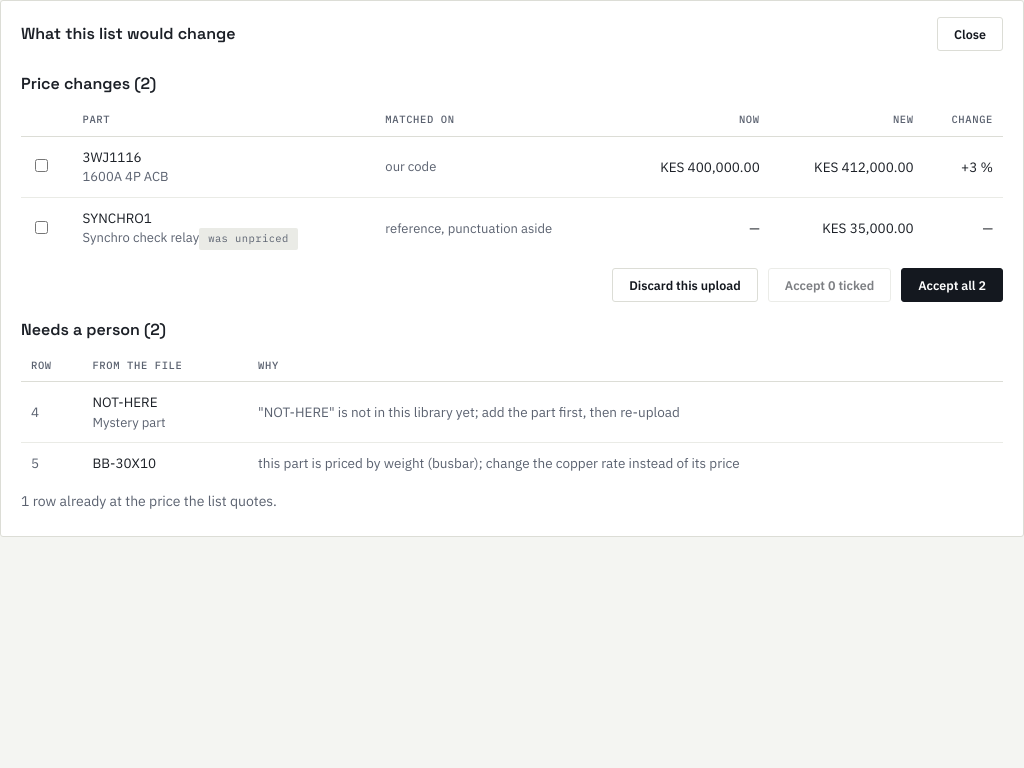
it: the price-list review › reports a refusal from the database rather than swallowing it
What coordinates should you click on to do the following:
click the button "Accept all 2"
I would click on:
 (952, 284)
Its box is [901,268,1003,302].
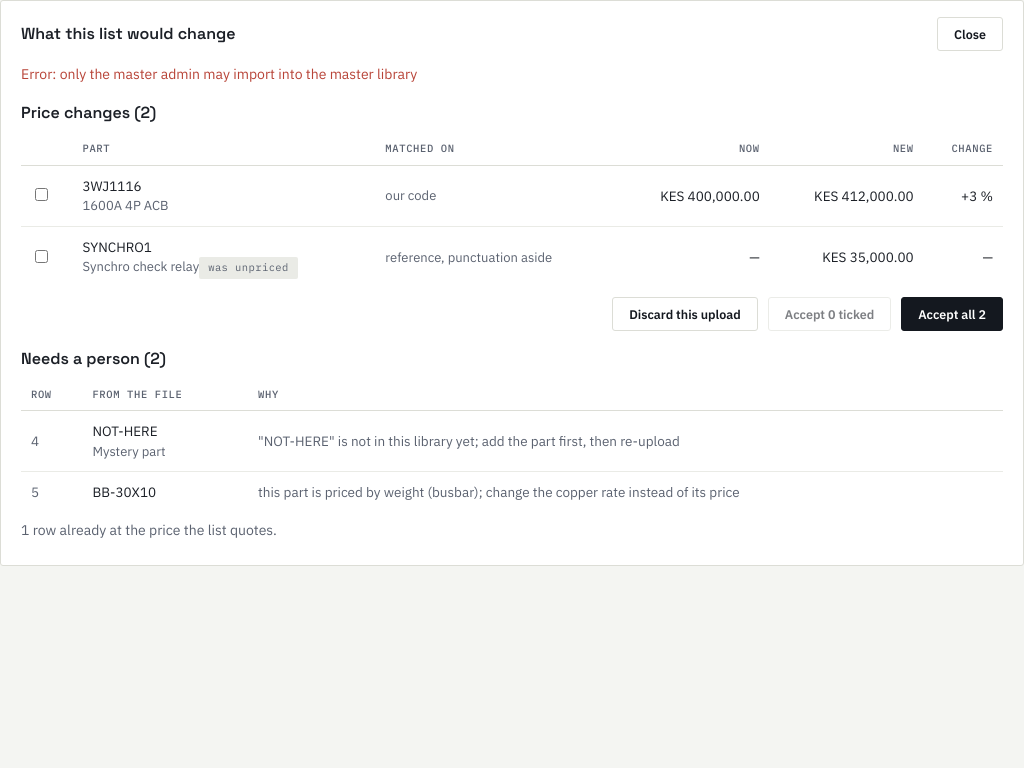
Expected: the text "only the master admin" is shown, [21,65,417,83]
